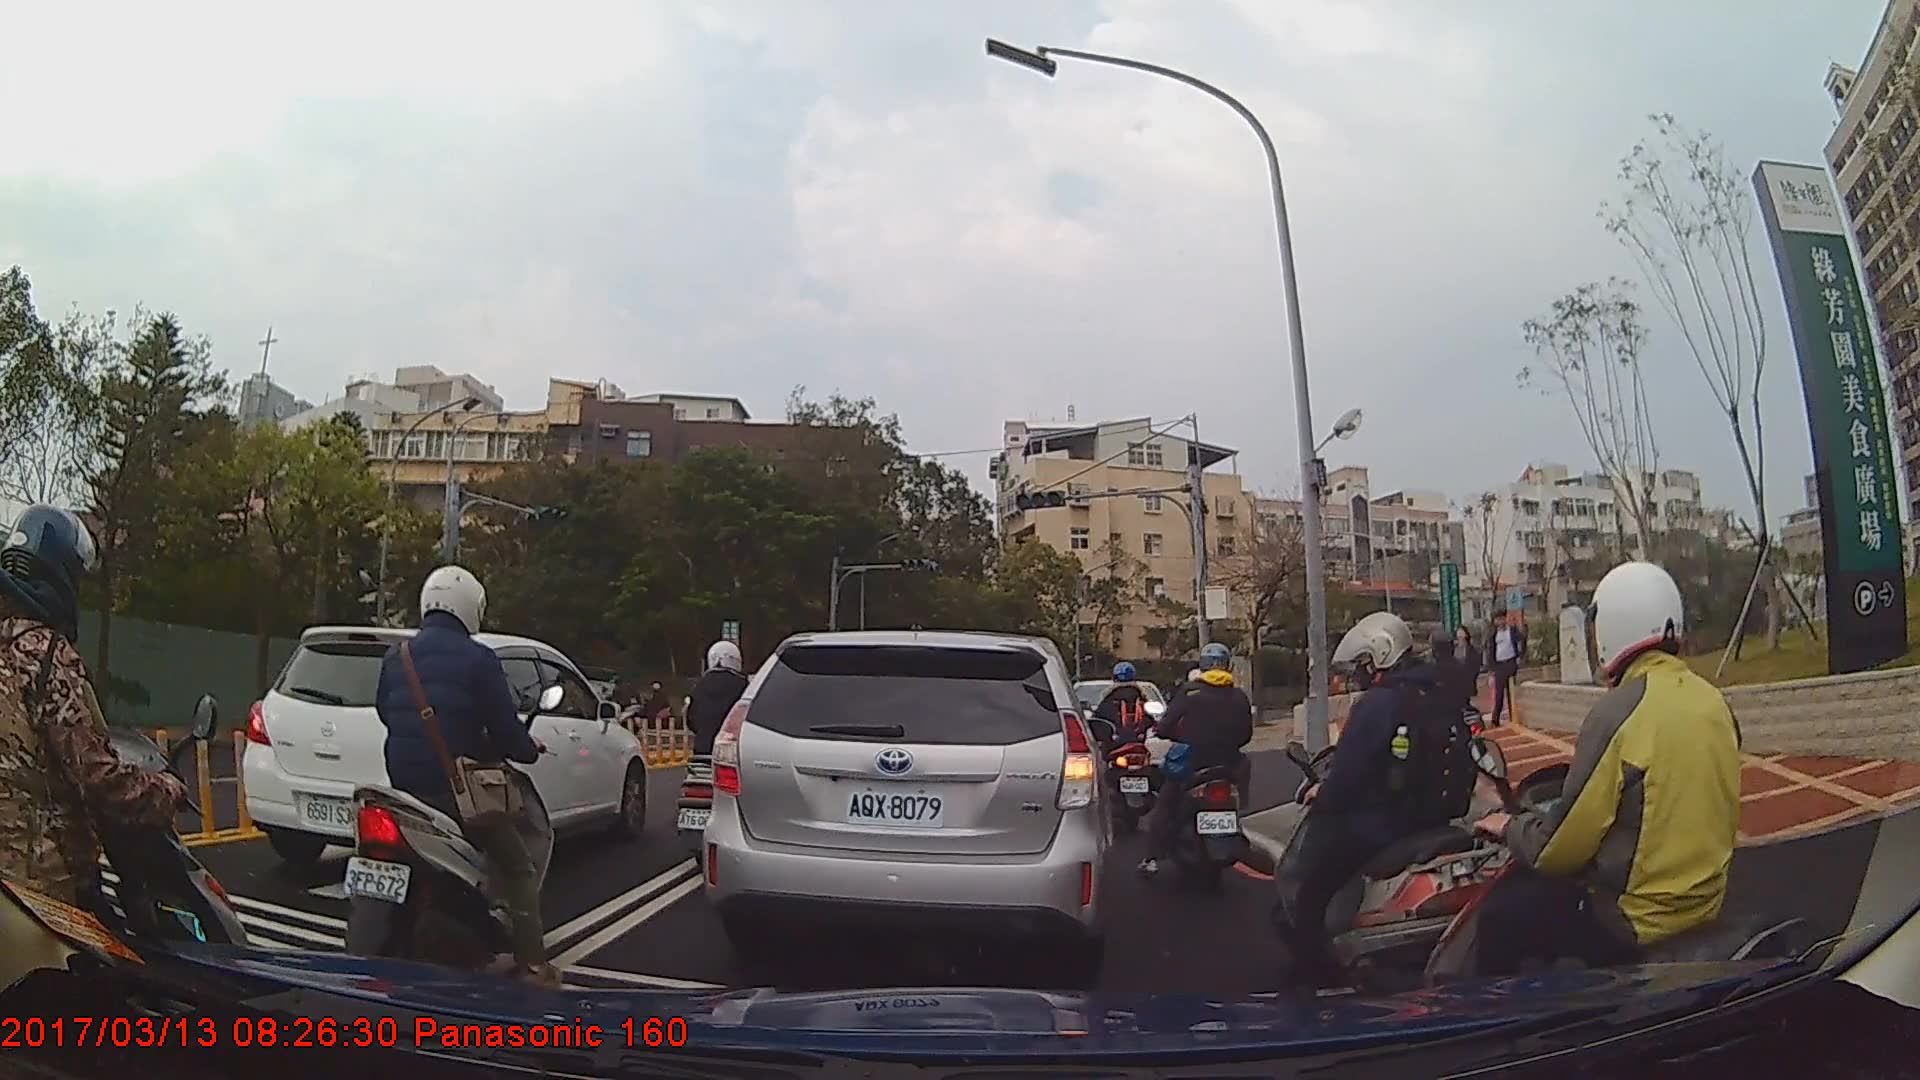pedestrian: (1485, 611, 1532, 728), (1446, 626, 1485, 731)
rider: (1416, 523, 1802, 1080), (1, 502, 258, 1047), (331, 556, 558, 991), (1269, 609, 1514, 1012), (1135, 644, 1258, 891), (1380, 630, 1483, 787), (1081, 657, 1165, 834)
vehicle: (693, 626, 1114, 976), (240, 623, 647, 876), (1061, 678, 1169, 788)
